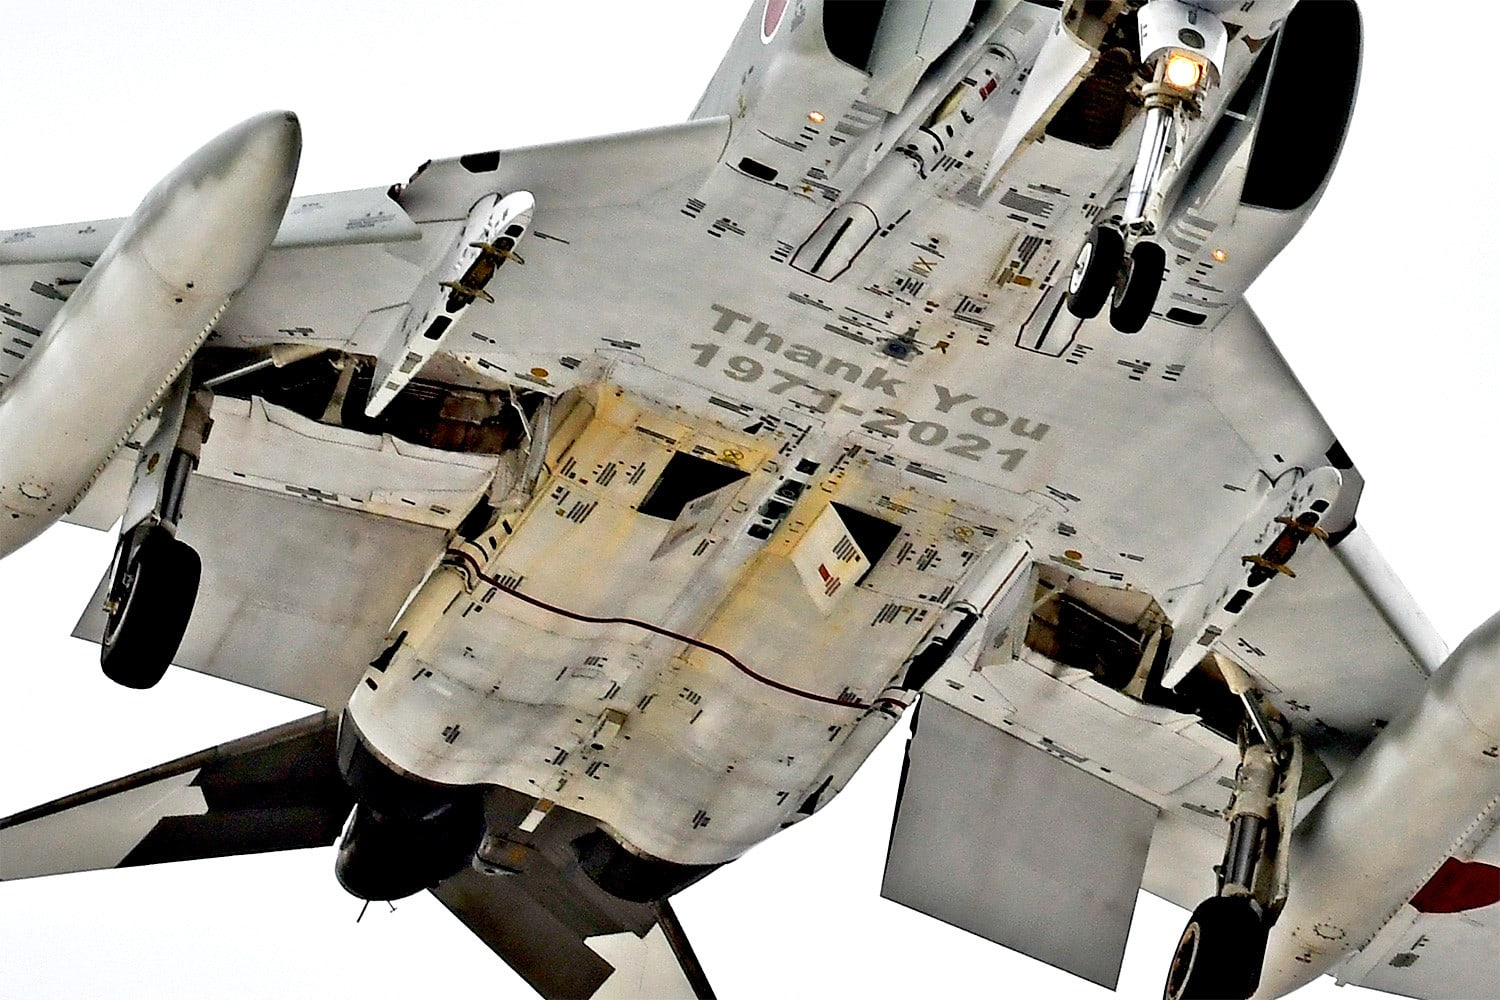F4: (1, 1, 1500, 1000)
